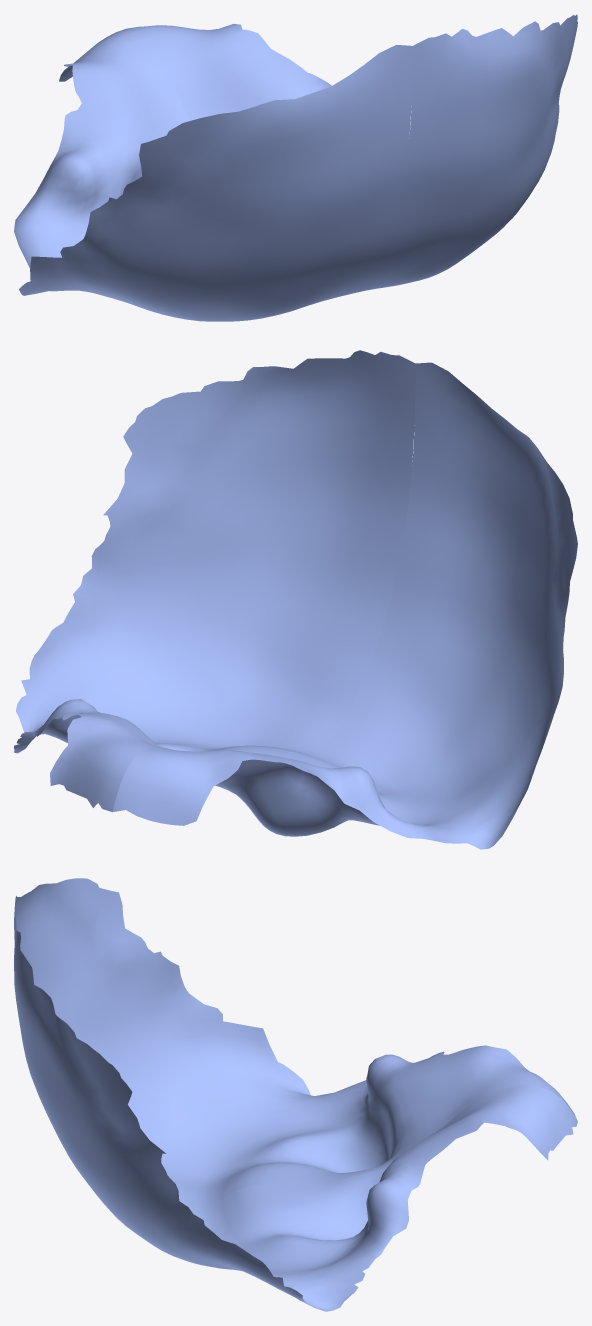
Rendered from Occipitale.fbx.
The picture shows the model from 3 angles, top to bottom: view 1: azimuth 30°, elevation 25°; view 2: azimuth 150°, elevation 25°; view 3: azimuth 270°, elevation 25°; orthographic projection. The views are drawn at different scales.
Visible parts, largest first — view 1: Occipitale; view 2: Occipitale; view 3: Occipitale.
Part boxes in pixels (x1,y1,x2,y2): Occipitale: [14, 14, 577, 321]; Occipitale: [14, 350, 577, 849]; Occipitale: [14, 878, 577, 1311].
Size of the model in its own units: 553 by 347 by 581.
